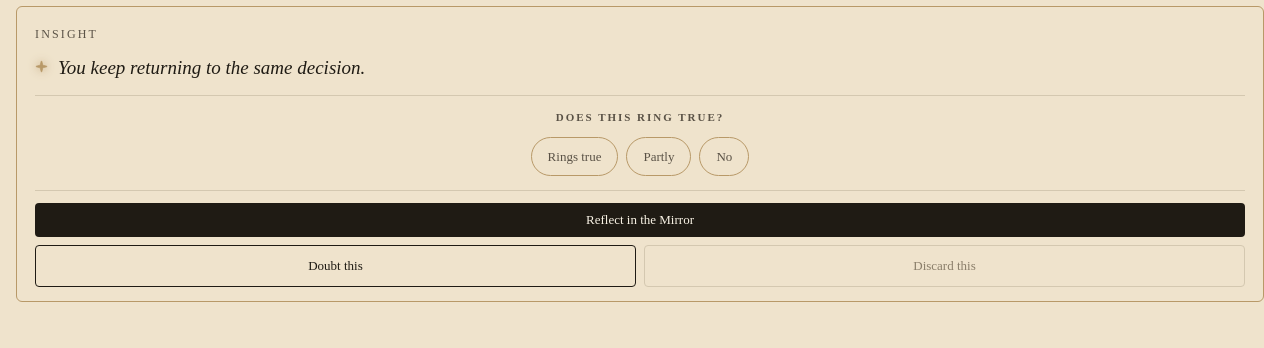
Test case: answering › sends no and confirms
The width and height of the screenshot is (1264, 348).
Click the button "No". click: (724, 156)
box: [700,136,749,176]
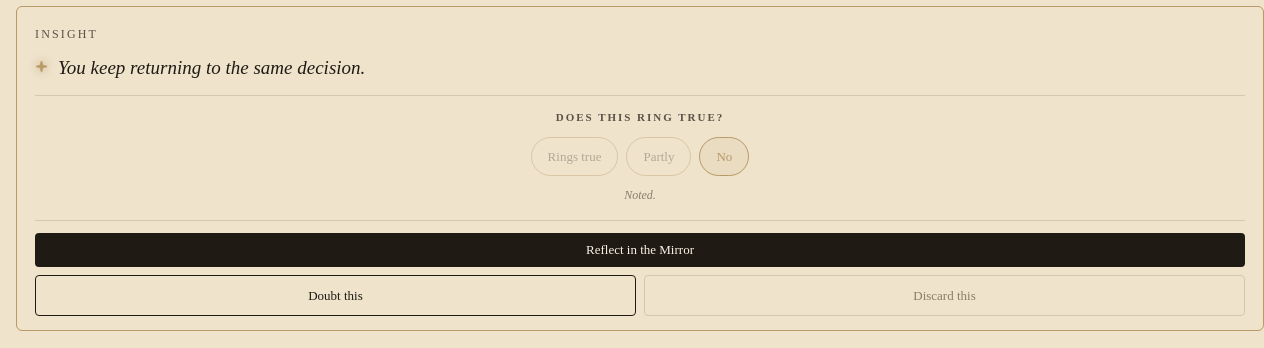
Check: the text "Noted." is shown, box [624,186,656,206]
